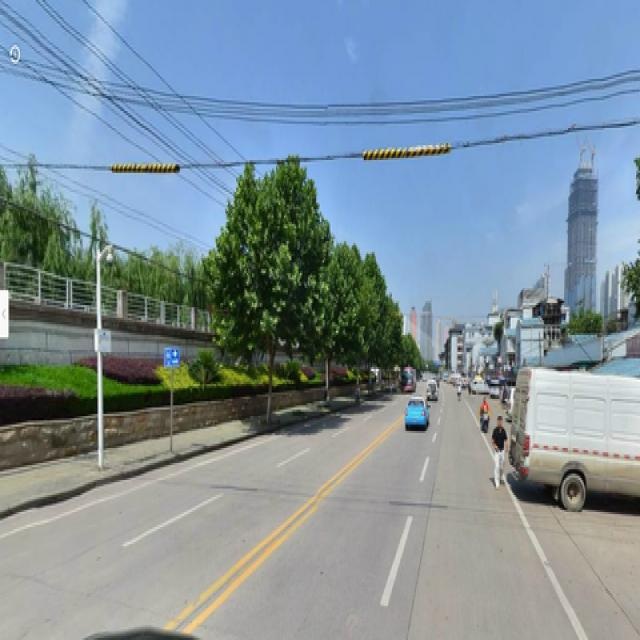meta: (225, 152, 311, 426)
